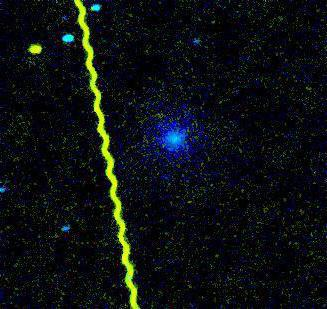star: (21, 33, 51, 63)
